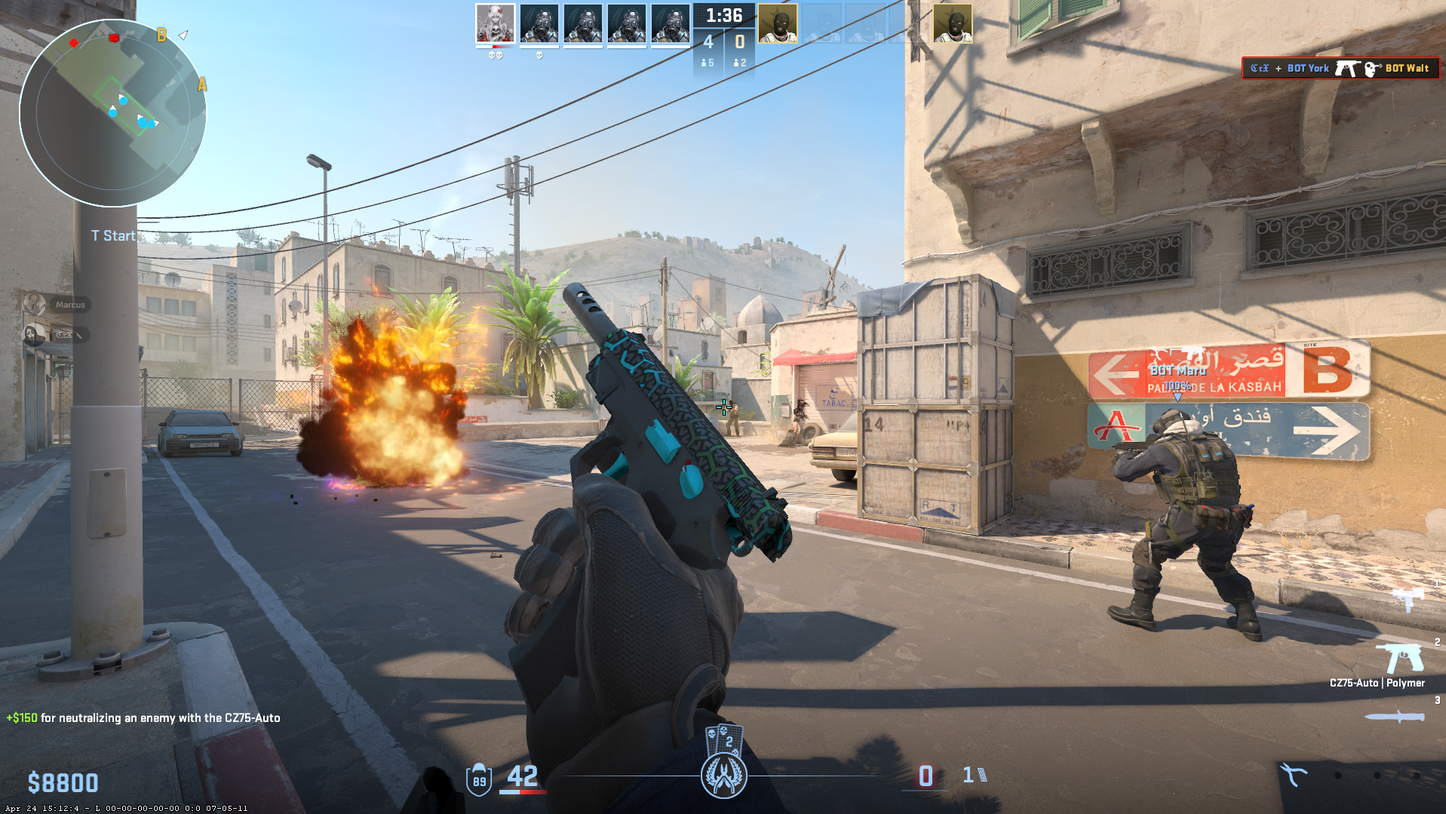CT: (1117, 406, 1265, 641)
T: (726, 400, 739, 437)
